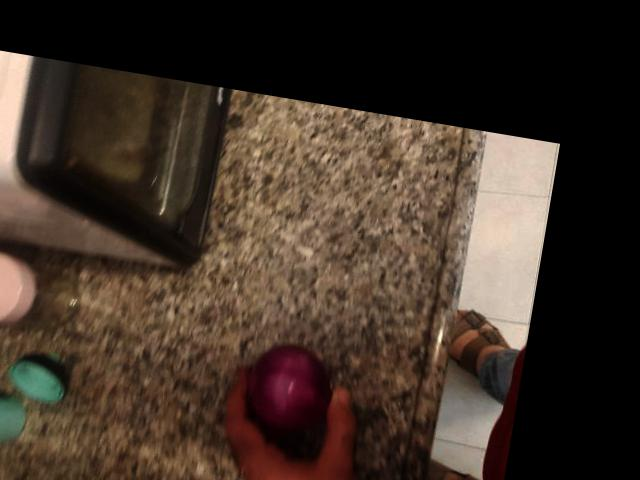onion: (153, 70, 288, 203)
